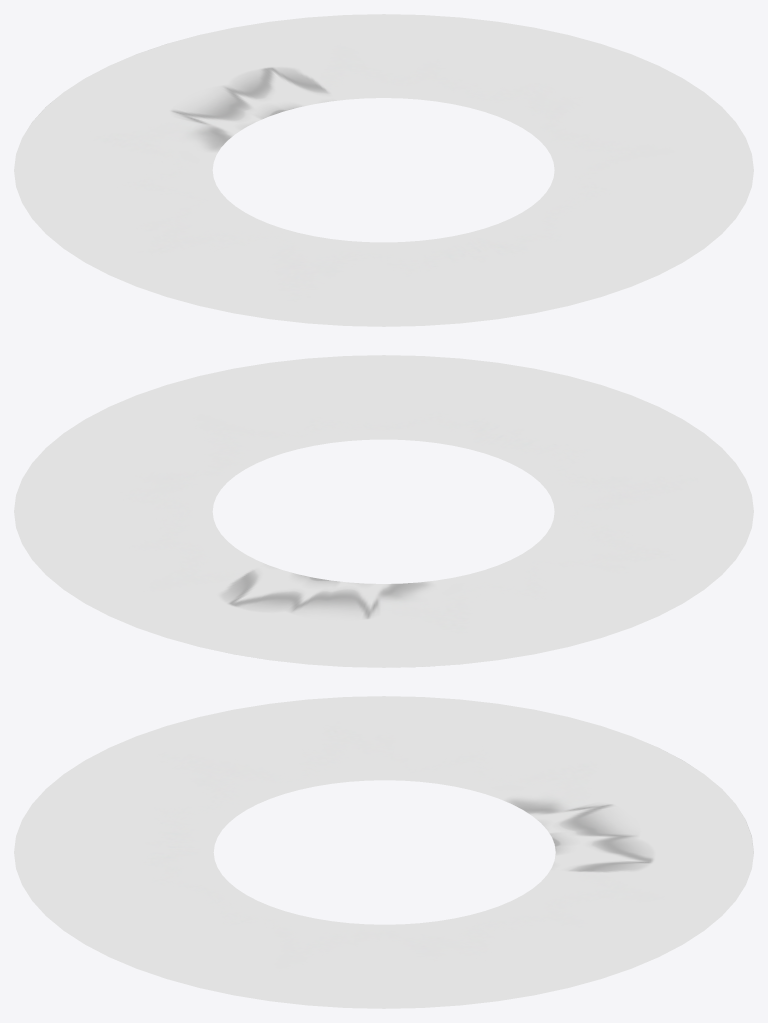
The model's file is pan_6.FBX.
3 views of the same model, one above another, from view 1: azimuth 30°, elevation 25°; view 2: azimuth 150°, elevation 25°; view 3: azimuth 270°, elevation 25° (orthographic).
Visible parts, largest first — view 1: Plane003; view 2: Plane003; view 3: Plane003.
Boxes of the visible parts, x1,y1,x2,y2 form: Plane003: (14,14,753,326); Plane003: (14,355,753,667); Plane003: (14,696,753,1008).
Size of the model in its own units: 325 by 5.44e-05 by 325.
